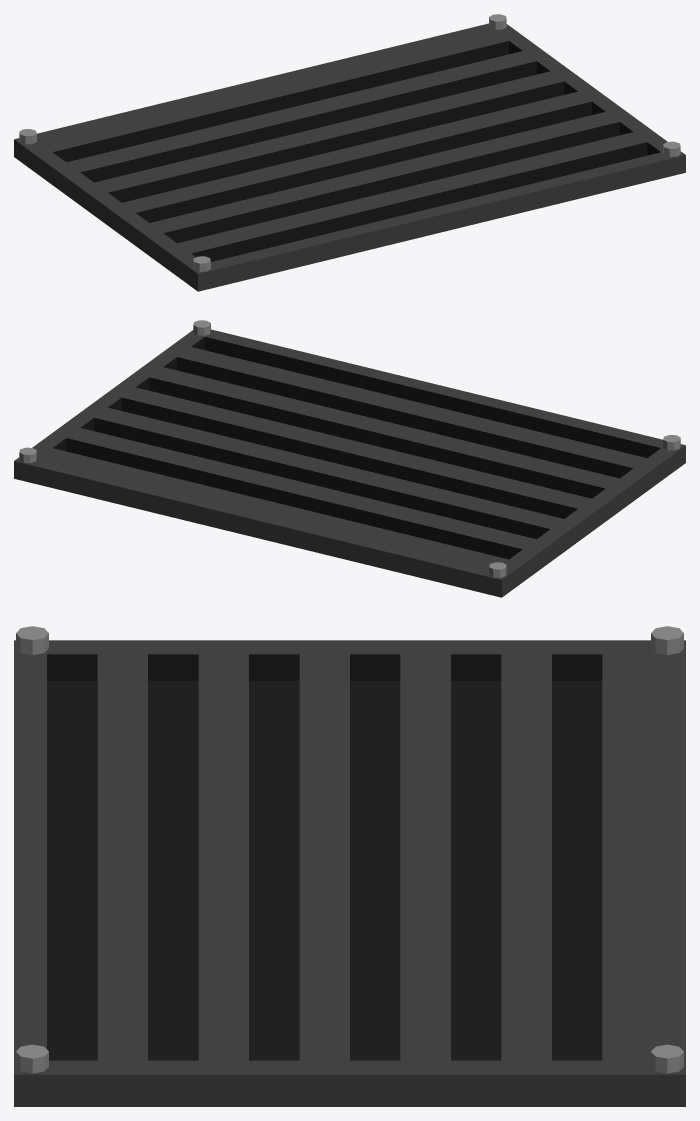
File: Prop_WaterDrain.fbx
The picture shows the model from 3 angles, top to bottom: view 1: azimuth 30°, elevation 25°; view 2: azimuth 150°, elevation 25°; view 3: azimuth 270°, elevation 25°; orthographic projection. The views are drawn at different scales.
Visible parts, largest first — view 1: Prop_WaterDrain; view 2: Prop_WaterDrain; view 3: Prop_WaterDrain.
Boxes of the visible parts, x1,y1,x2,y2 form: Prop_WaterDrain: [14, 14, 685, 291]; Prop_WaterDrain: [14, 320, 685, 597]; Prop_WaterDrain: [14, 626, 685, 1106].
Bounding box in the file's own units: 42.78 × 2.17 × 27.97.
